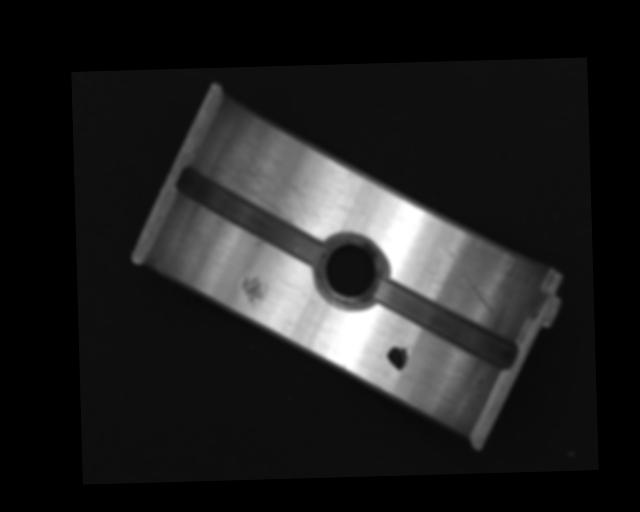blot: (386, 345, 409, 371)
bruise: (240, 274, 265, 310)
gap: (177, 162, 323, 271), (374, 278, 516, 373)
hole: (317, 231, 385, 310)
nick: (445, 244, 494, 318)
scratch: (205, 132, 320, 227)
